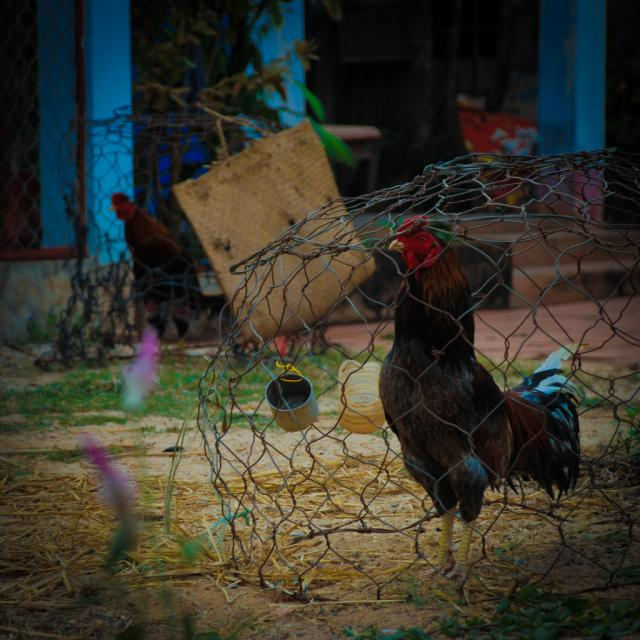Chicken: (348, 213, 584, 532)
